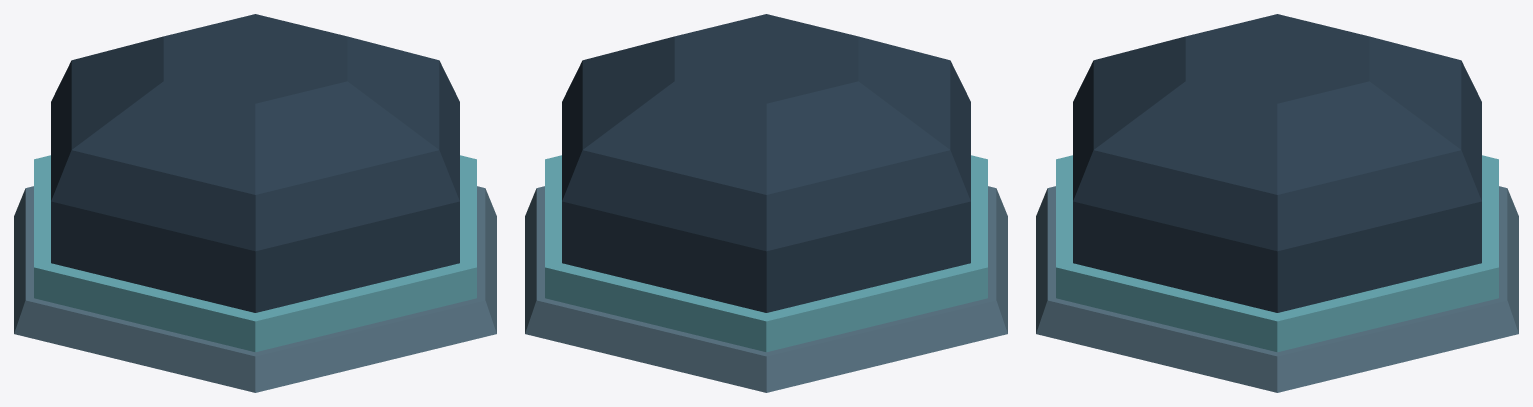
Rendered from hangar_roundGlass.glb.
The picture shows the model from 3 angles, left to right: view 1: azimuth 30°, elevation 25°; view 2: azimuth 150°, elevation 25°; view 3: azimuth 270°, elevation 25°; orthographic projection.
Parts seen in each view (by area): view 1: hangar_roundGlass; view 2: hangar_roundGlass; view 3: hangar_roundGlass.
Boxes of the visible parts, left/top/right/bottom form: hangar_roundGlass: left=14, top=14, right=496, bottom=392; hangar_roundGlass: left=525, top=14, right=1007, bottom=392; hangar_roundGlass: left=1036, top=14, right=1518, bottom=392.
Bounding box in the file's own units: 3.27 × 1.4 × 2.83.
